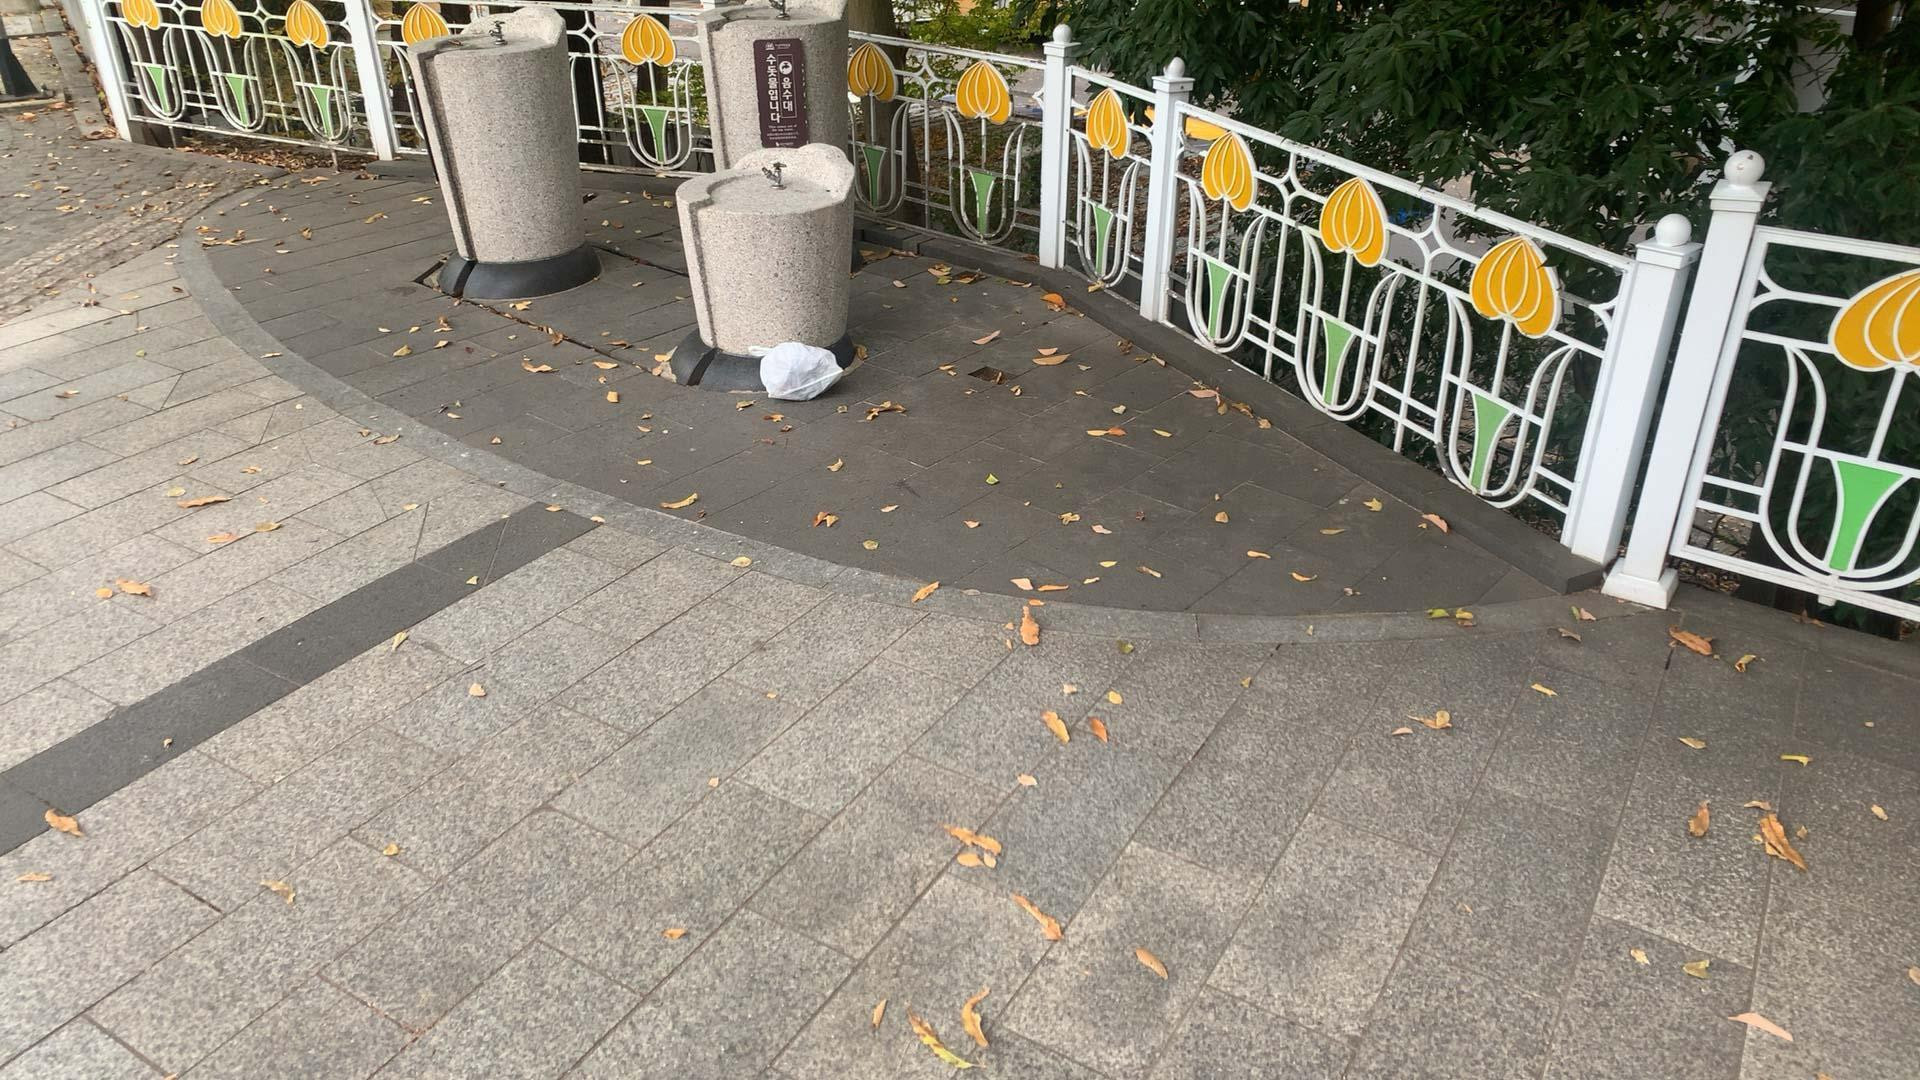white_bag: (740, 334, 849, 406)
